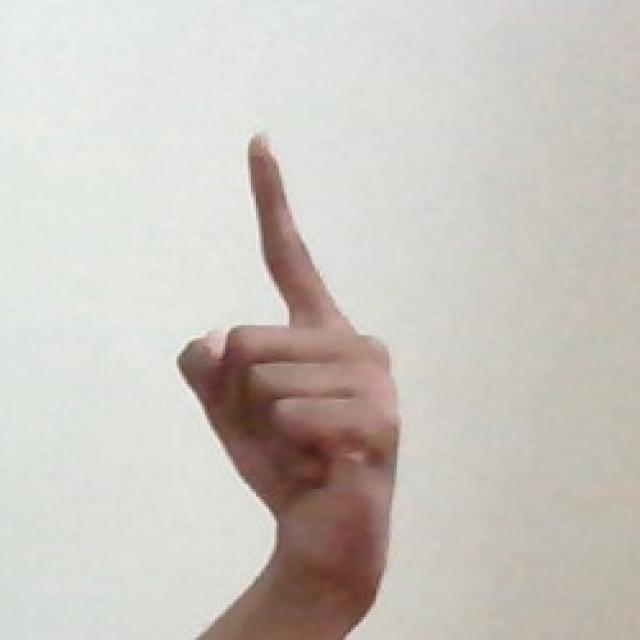Alphabet-I: (163, 110, 409, 610)
